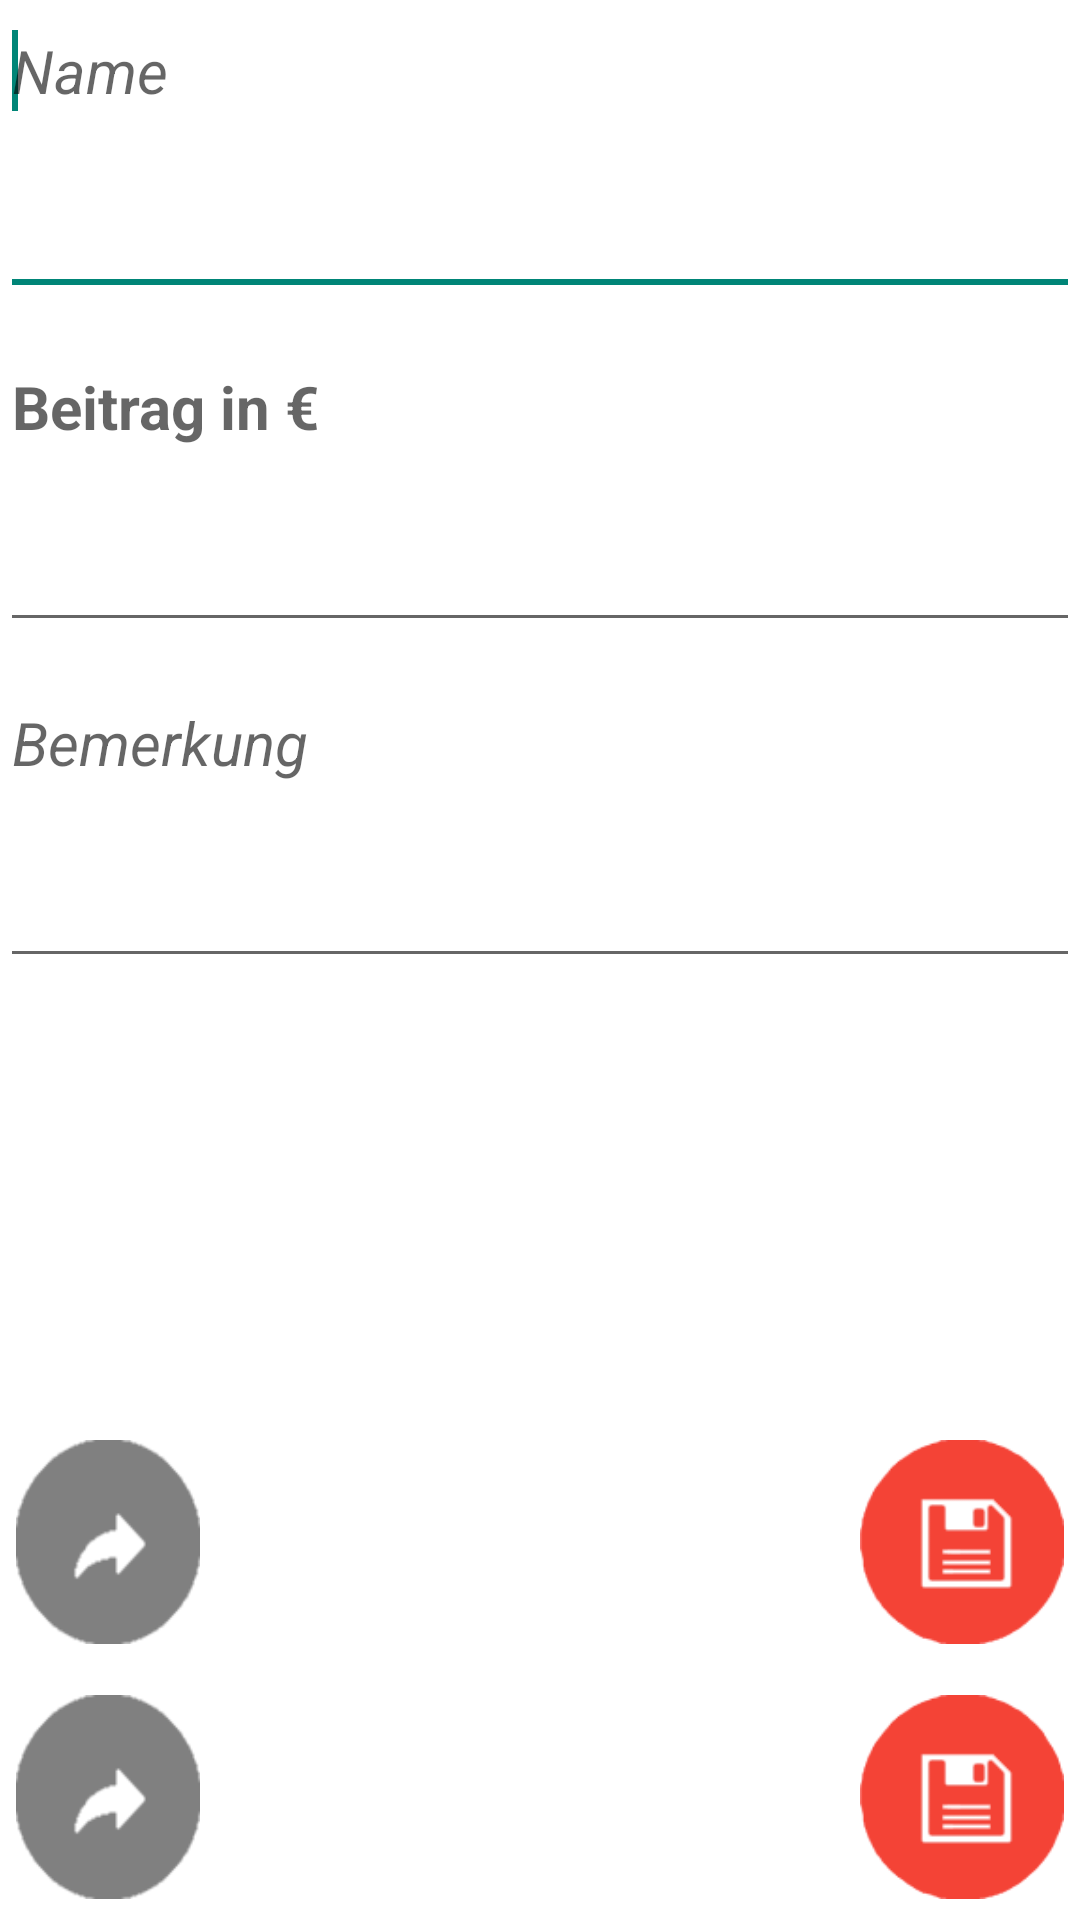

Named icons in this screenshot (1080px x 1920px) and their centers, (x=x, y=y):
save: (x=962, y=1542), (x=962, y=1797)
